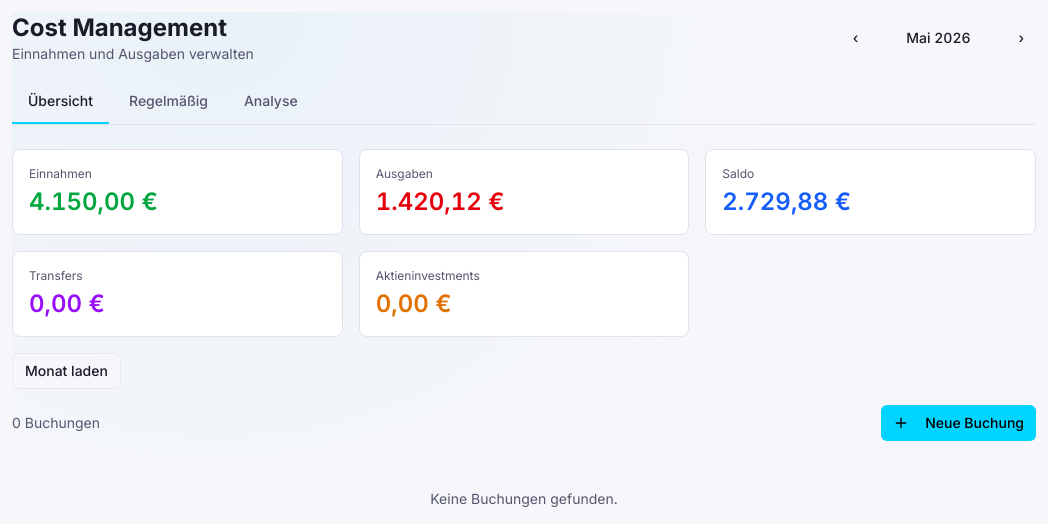
Test: CostManagementPage › switches to Regelmäßig tab
The width and height of the screenshot is (1048, 524).
Click the button "Regelmäßig". click: x=168, y=106
box: [113, 88, 224, 124]
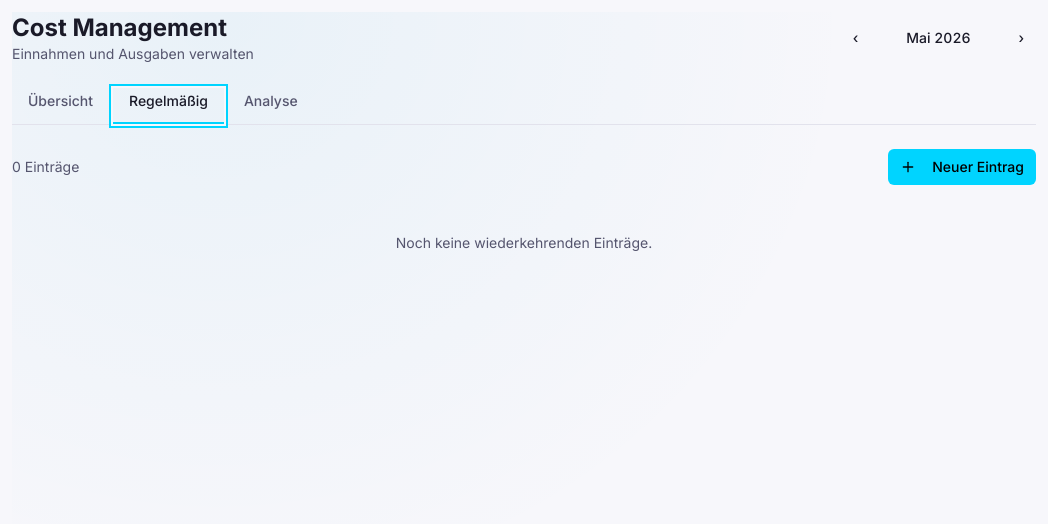
Expected: the text "0 Einträge" is shown, [12, 157, 79, 177]
